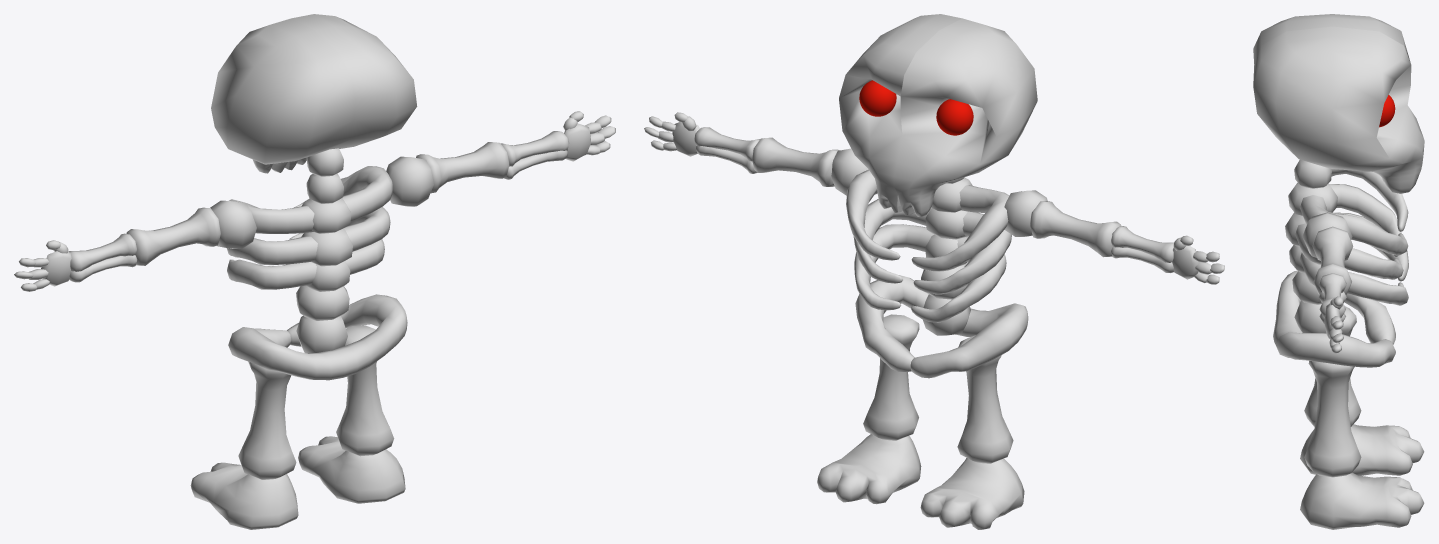
File: skeleton.gltf
3 views of the same model, side by side, from view 1: azimuth 30°, elevation 25°; view 2: azimuth 150°, elevation 25°; view 3: azimuth 270°, elevation 25° (orthographic). The views are drawn at different scales.
Visible parts, largest first — view 1: Cube.040, Cube, Cube.002, Cube.003, Cube.001, Cube.004, Cube.010, Cube.012, Cube.013, Cube.014, Cube.037, Cube.038 (+13 smaller); view 2: Cube.040, Cube, Cube.002, Cube.010, Cube.003, Cube.013, Cube.012, Cube.001, Cube.004, Cube.014, Cube.037, Cube.011 (+9 smaller); view 3: Cube.040, Cube.003, Cube, Cube.004, Cube.002, Cube.012, Cube.010, Cube.013, Cube.037, Cube.001, Cube.038, Cube.009 (+8 smaller).
Part boxes in pixels (box(x1,y1,x2,y2)): Cube.040: box(211, 14, 417, 173); Cube: box(228, 294, 407, 380); Cube.002: box(190, 462, 298, 529); Cube.003: box(298, 436, 405, 503); Cube.001: box(238, 361, 296, 479); Cube.004: box(336, 325, 394, 456); Cube.010: box(229, 166, 392, 233); Cube.012: box(226, 207, 390, 264); Cube.013: box(227, 239, 384, 289); Cube.014: box(126, 207, 220, 265); Cube.037: box(416, 142, 509, 193); Cube.038: box(386, 156, 433, 206); Cube.040: box(839, 14, 1037, 216); Cube: box(855, 275, 1028, 378); Cube.002: box(920, 458, 1024, 529); Cube.010: box(846, 169, 1009, 271); Cube.003: box(817, 434, 921, 504); Cube.013: box(854, 224, 1006, 322); Cube.012: box(853, 199, 1011, 294); Cube.001: box(957, 335, 1013, 463); Cube.004: box(863, 314, 919, 440); Cube.014: box(1030, 201, 1121, 257); Cube.037: box(752, 137, 839, 186); Cube.011: box(1004, 190, 1047, 236); Cube.040: box(1253, 14, 1424, 193); Cube.003: box(1300, 472, 1424, 529); Cube: box(1273, 270, 1395, 367); Cube.004: box(1304, 361, 1361, 477); Cube.002: box(1300, 424, 1424, 475); Cube.012: box(1295, 184, 1403, 279); Cube.010: box(1299, 169, 1408, 255); Cube.013: box(1300, 212, 1408, 305); Cube.037: box(1312, 226, 1353, 294); Cube.001: box(1304, 306, 1361, 426); Cube.038: box(1302, 212, 1352, 257); Cube.009: box(1288, 182, 1337, 216).
Size of the model in its own units: 2.58 by 1.94 by 0.6522.
